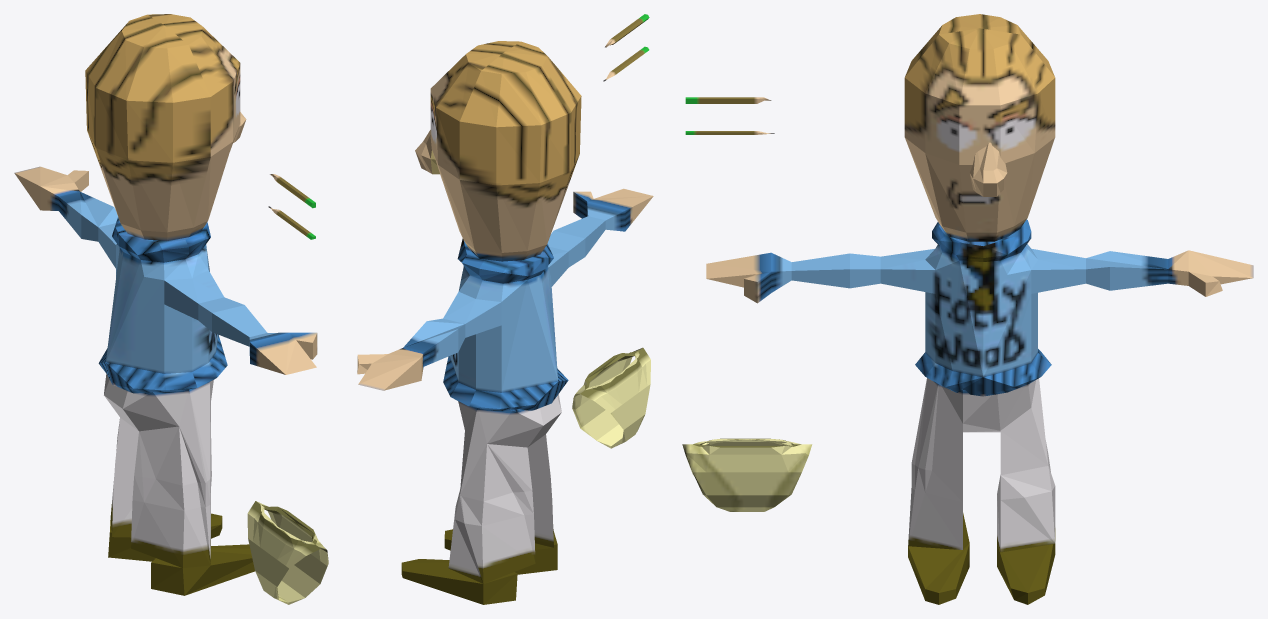
The model's file is PipMAD.glb.
The picture shows the model from 3 angles, left to right: view 1: azimuth 30°, elevation 25°; view 2: azimuth 150°, elevation 25°; view 3: azimuth 270°, elevation 25°; orthographic projection. The views are drawn at different scales.
Parts seen in each view (by area): view 1: PipMAD; view 2: PipMAD; view 3: PipMAD.
Part boxes in pixels (box(x1,y1,x2,y2)): PipMAD: box(14, 14, 328, 604); PipMAD: box(357, 14, 653, 604); PipMAD: box(682, 14, 1253, 604).
Bounding box in the file's own units: 33.94 × 116 × 111.
Materials: 1 (1 with a texture image).
